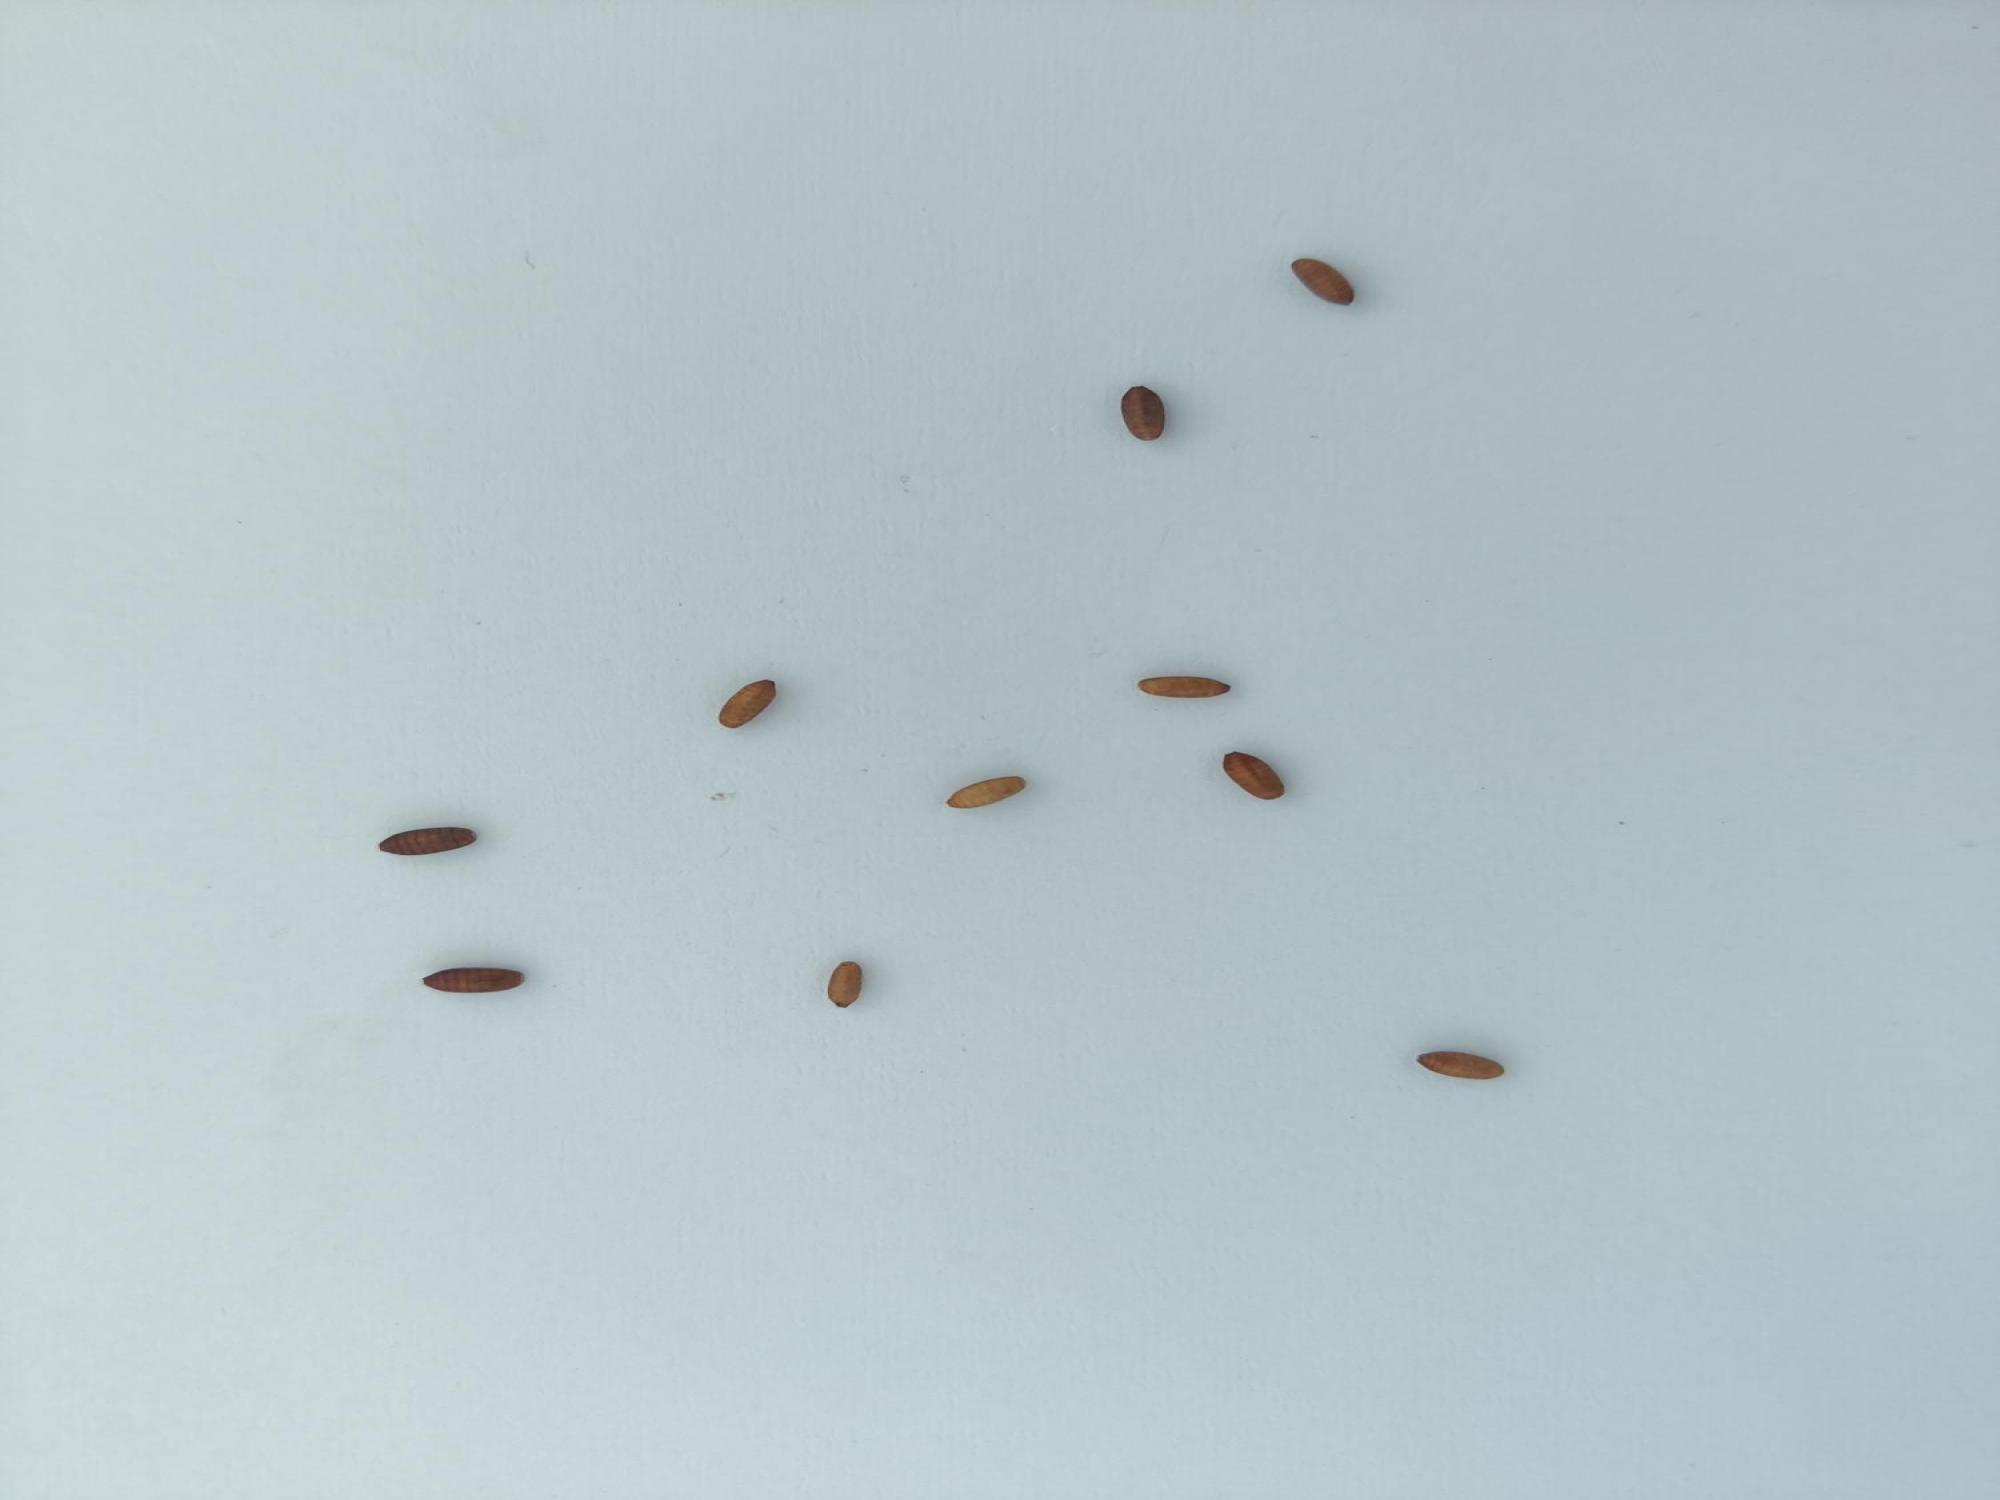pupae: (408, 960, 535, 1005), (361, 819, 490, 863), (1213, 745, 1293, 804), (1285, 255, 1367, 310), (1408, 1046, 1513, 1087), (940, 774, 1036, 818), (813, 955, 876, 1019), (1113, 380, 1172, 447), (712, 676, 783, 731), (1123, 673, 1244, 703)
